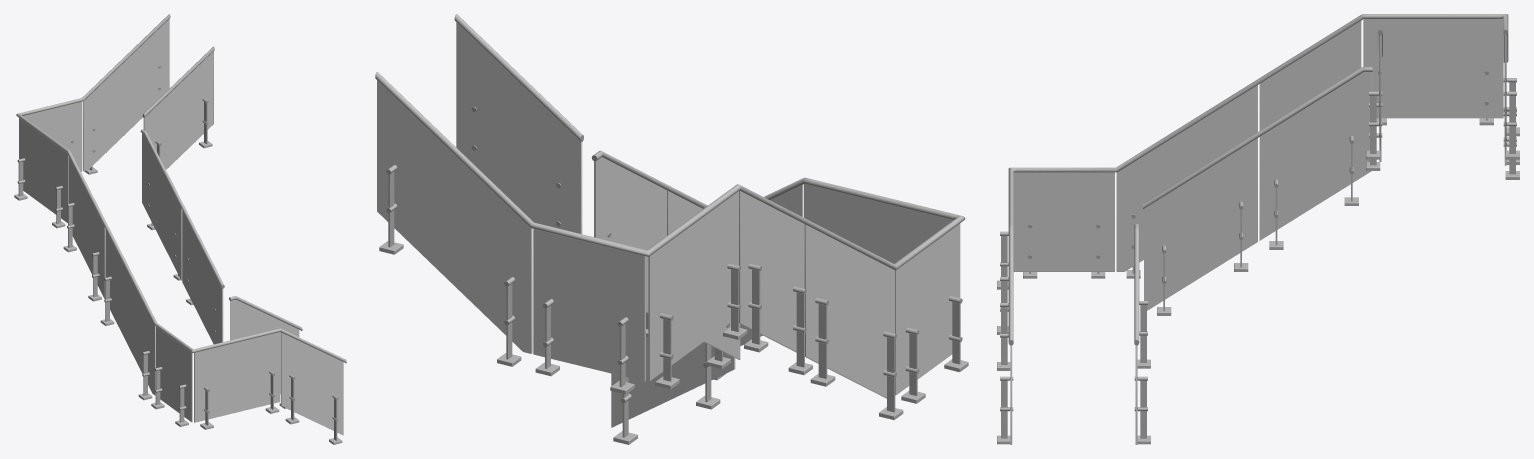
File: U-Shaped_Railing_Lo-Post_Flatbar.gltf
3 renders of one model, left to right at view 1: azimuth 30°, elevation 25°; view 2: azimuth 150°, elevation 25°; view 3: azimuth 270°, elevation 25°, orthographic. The views are drawn at different scales.
Parts seen in each view (by area): view 1: Casework 1 Casework 1 [8738332], Infill_Glass_Raked & Horizontal Generic [8738822]001, Infill_Glass_Raked & Horizontal Generic [8739593]001, Infill_Glass_Raked & Horizontal Generic [8199751], Casework 1 Casework 1 [8738332]001, Infill_Glass_Raked & Horizontal Generic [8738822], Infill_Glass_Transition Generic [8202170], Infill_Glass_Raked & Horizontal Generic [8199751]001, Infill_Glass_Raked & Horizontal Generic [8739593], Infill_Glass_Raked & Horizontal Generic [8737682]001, Infill_Glass_Raked & Horizontal Generic [8737682], Infill_Glass_Transition Generic [8202170]001 (+5 smaller); view 2: Casework 1 Casework 1 [8738332], Infill_Glass_Raked & Horizontal Generic [8199751], Infill_Glass_Raked & Horizontal Generic [8737682], Casework 1 Casework 1 [8738332]001, Infill_Glass_Raked & Horizontal Generic [8738822], Infill_Glass_Raked & Horizontal Generic [8739593], Infill_Glass_Raked & Horizontal Generic [8737682]001, Infill_Glass_Raked & Horizontal Generic [8738822]001, Infill_Glass_Transition Generic [8202170], Infill_Glass_Transition Generic [8202170]001, Object, Infill_Glass_Raked & Horizontal Generic [8199751]001 (+9 smaller); view 3: Infill_Glass_Raked & Horizontal Generic [8738822], Infill_Glass_Raked & Horizontal Generic [8199751]001, Infill_Glass_Transition Generic [8202170], Infill_Glass_Raked & Horizontal Generic [8737682]001, Casework 1 Casework 1 [8738332]001, Infill_Glass_Raked & Horizontal Generic [8739593], Generic Models 1 Generic Models 1 [8568048], Generic Models 10 Generic Models 1 [8735975], Object, Generic Models 1 Generic Models 1 [8568048]001, Object006, Object013 (+1 smaller).
Part boxes in pixels (bbox=[...]): Casework 1 Casework 1 [8738332]: bbox=[83, 19, 169, 171]; Infill_Glass_Raked & Horizontal Generic [8738822]001: bbox=[194, 332, 280, 422]; Infill_Glass_Raked & Horizontal Generic [8739593]001: bbox=[281, 332, 343, 435]; Infill_Glass_Raked & Horizontal Generic [8199751]: bbox=[143, 51, 213, 169]; Casework 1 Casework 1 [8738332]001: bbox=[105, 229, 155, 395]; Infill_Glass_Raked & Horizontal Generic [8738822]: bbox=[19, 118, 68, 222]; Infill_Glass_Transition Generic [8202170]: bbox=[142, 133, 182, 280]; Infill_Glass_Raked & Horizontal Generic [8199751]001: bbox=[182, 210, 223, 344]; Infill_Glass_Raked & Horizontal Generic [8739593]: bbox=[69, 157, 105, 298]; Infill_Glass_Raked & Horizontal Generic [8737682]001: bbox=[156, 326, 192, 422]; Infill_Glass_Raked & Horizontal Generic [8737682]: bbox=[23, 101, 82, 171]; Infill_Glass_Transition Generic [8202170]001: bbox=[230, 299, 299, 394]; Casework 1 Casework 1 [8738332]: bbox=[377, 80, 532, 353]; Infill_Glass_Raked & Horizontal Generic [8199751]: bbox=[456, 22, 582, 233]; Infill_Glass_Raked & Horizontal Generic [8737682]: bbox=[533, 229, 645, 381]; Casework 1 Casework 1 [8738332]001: bbox=[804, 224, 894, 398]; Infill_Glass_Raked & Horizontal Generic [8738822]: bbox=[648, 191, 738, 380]; Infill_Glass_Raked & Horizontal Generic [8739593]: bbox=[739, 190, 804, 352]; Infill_Glass_Raked & Horizontal Generic [8737682]001: bbox=[895, 223, 960, 395]; Infill_Glass_Raked & Horizontal Generic [8738822]001: bbox=[804, 184, 952, 263]; Infill_Glass_Transition Generic [8202170]: bbox=[594, 157, 666, 313]; Infill_Glass_Transition Generic [8202170]001: bbox=[611, 337, 735, 427]; Object: bbox=[375, 72, 737, 256]; Infill_Glass_Raked & Horizontal Generic [8199751]001: bbox=[667, 190, 740, 359]; Infill_Glass_Raked & Horizontal Generic [8738822]: bbox=[1363, 19, 1503, 118]; Infill_Glass_Raked & Horizontal Generic [8199751]001: bbox=[1144, 138, 1257, 310]; Infill_Glass_Transition Generic [8202170]: bbox=[1259, 72, 1371, 240]; Infill_Glass_Raked & Horizontal Generic [8737682]001: bbox=[1013, 172, 1114, 271]; Casework 1 Casework 1 [8738332]001: bbox=[1116, 85, 1257, 271]; Infill_Glass_Raked & Horizontal Generic [8739593]: bbox=[1259, 21, 1361, 130]; Generic Models 1 Generic Models 1 [8568048]: bbox=[1143, 67, 1372, 208]; Generic Models 10 Generic Models 1 [8735975]: bbox=[1164, 14, 1367, 141]; Object: bbox=[1368, 14, 1508, 62]; Generic Models 1 Generic Models 1 [8568048]001: bbox=[1134, 224, 1139, 345]; Object006: bbox=[1008, 225, 1013, 345]; Object013: bbox=[1052, 138, 1165, 172].
Bounding box in the file's own units: 2 × 3.49 × 3.95.
